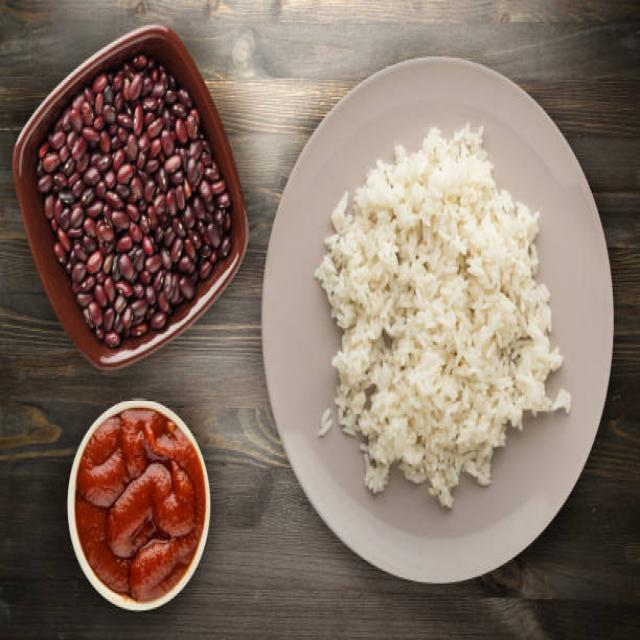rice: (314, 119, 572, 510)
